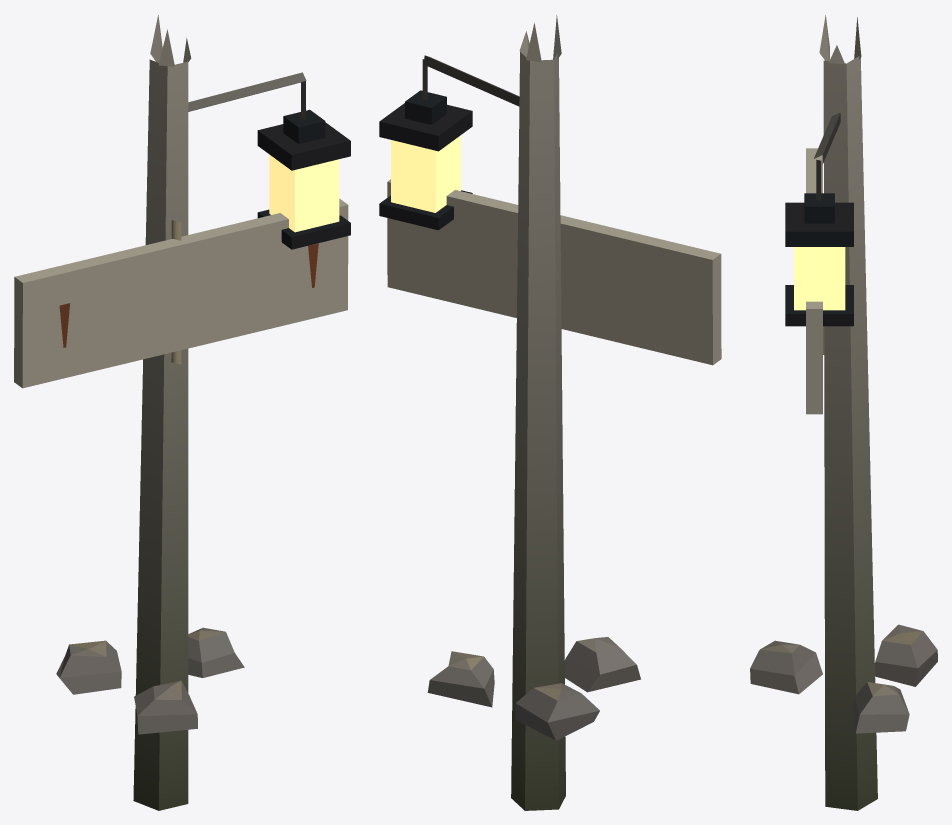
The model's file is wreck_cove_epitaph.glb.
3 renders of one model, left to right at view 1: azimuth 30°, elevation 25°; view 2: azimuth 150°, elevation 25°; view 3: azimuth 270°, elevation 25°, orthographic.
Parts seen in each view (by area): view 1: epitaph, epitaph_lamp; view 2: epitaph, epitaph_lamp; view 3: epitaph, epitaph_lamp.
Part boxes in pixels (x1,y1,x2,y2): epitaph: [14, 15, 350, 810]; epitaph_lamp: [269, 154, 339, 232]; epitaph: [379, 15, 721, 810]; epitaph_lamp: [391, 135, 460, 212]; epitaph: [750, 15, 937, 810]; epitaph_lamp: [794, 247, 845, 310].
Size of the model in its own units: 1.1 by 2.52 by 0.5482.
